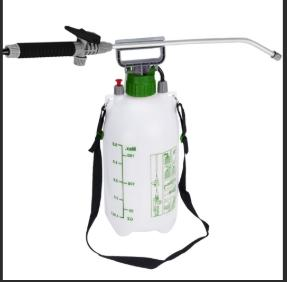PULVERISATEUR: (0, 13, 277, 282)
